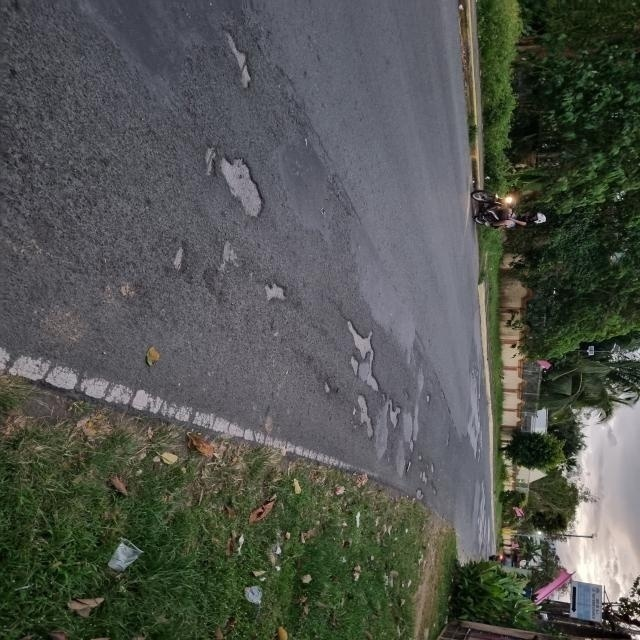pothole: (192, 133, 298, 237), (322, 296, 419, 396), (211, 10, 287, 111), (381, 402, 446, 507), (147, 229, 217, 296), (206, 221, 262, 275), (345, 386, 388, 454), (263, 274, 288, 316)
